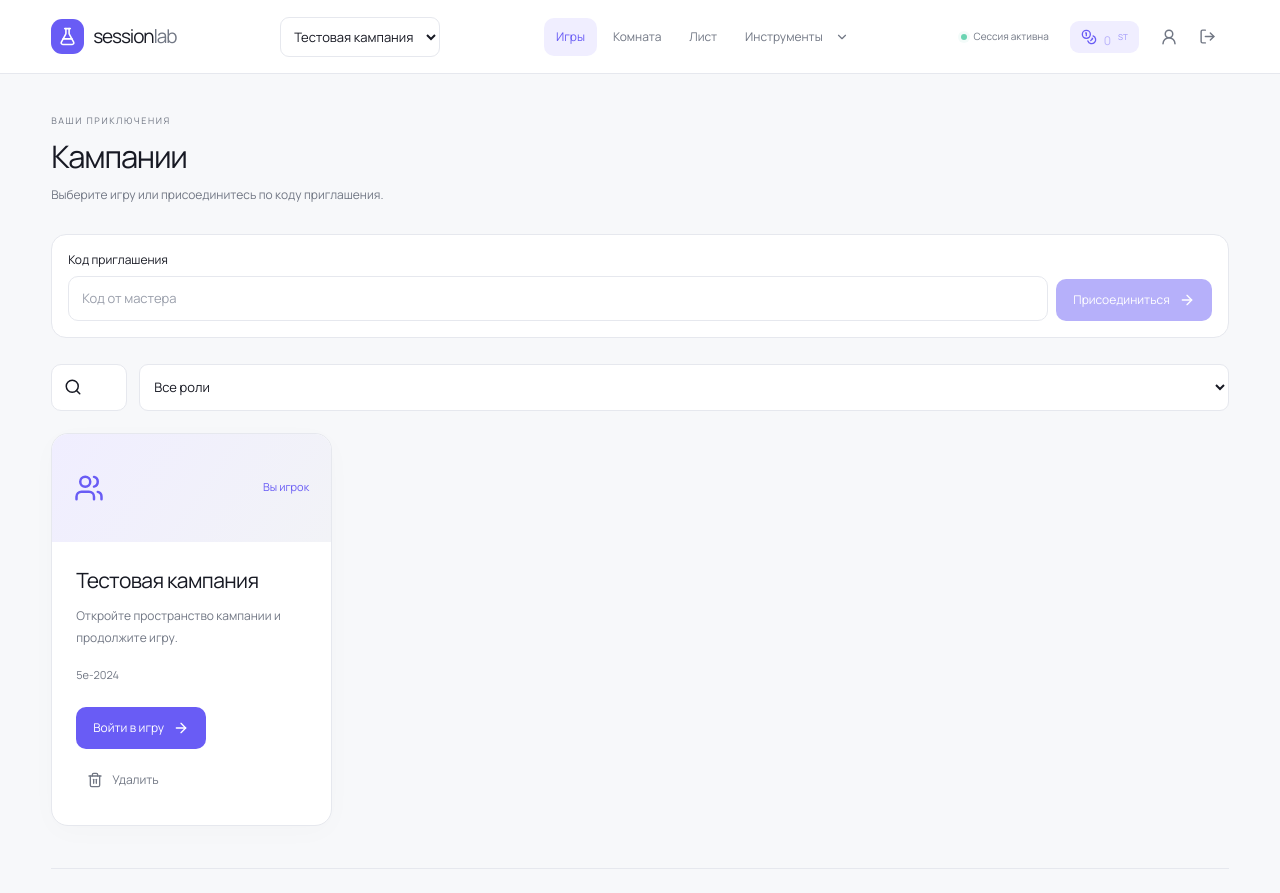
Test: Connected routes › loads campaign lobby and lets the player enter the room
The width and height of the screenshot is (1280, 893).
Expected: the heading "Кампании" is shown, [51, 134, 187, 176]
Expected: the heading "Тестовая кампания" is shown, [76, 566, 258, 594]
Click the button "Войти в игру" at (141, 728), box [76, 707, 206, 749]
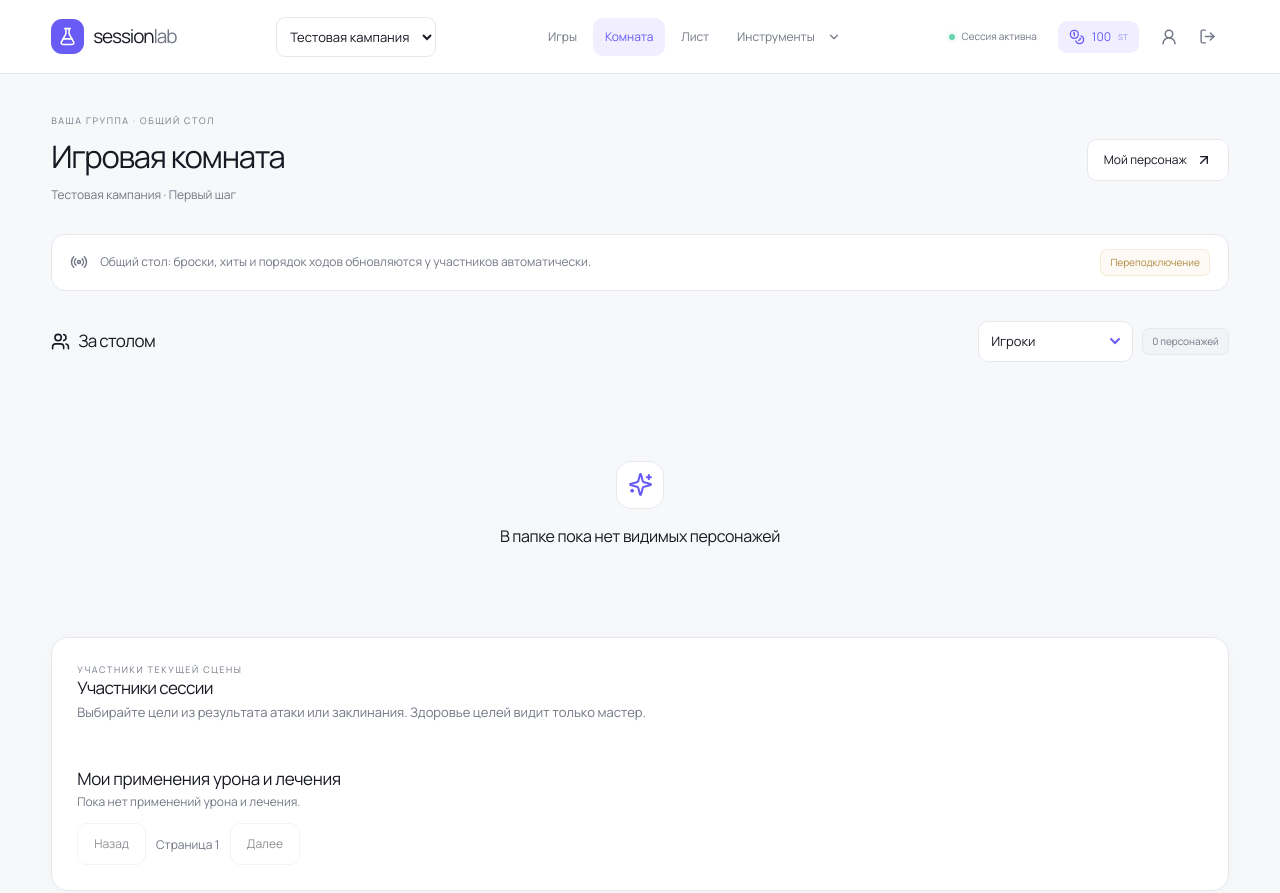
Expected: the heading "Игровая комната" is shown, [51, 136, 285, 176]
Expected: the text "100" is shown, [1092, 28, 1111, 46]
